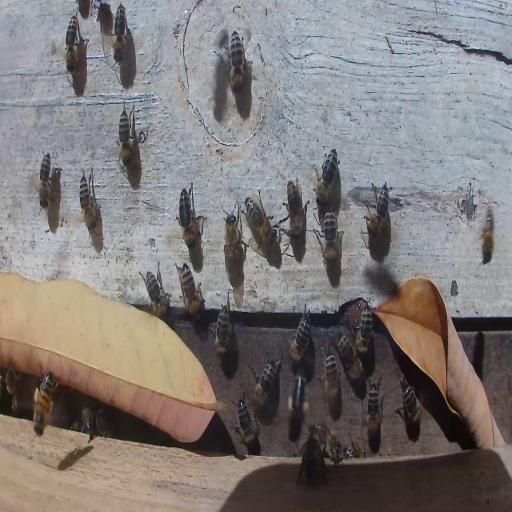nonpollenbee: (243, 193, 279, 250), (176, 183, 206, 247), (249, 352, 281, 409), (140, 262, 170, 315), (176, 262, 204, 318), (285, 176, 308, 243), (78, 166, 100, 236), (313, 148, 339, 206), (365, 180, 391, 236), (288, 304, 312, 364), (236, 399, 260, 453), (398, 377, 422, 429), (117, 104, 135, 173), (365, 374, 384, 438), (319, 211, 342, 263), (310, 423, 342, 460), (339, 337, 364, 384), (323, 352, 341, 416), (209, 300, 231, 352), (228, 31, 246, 94), (356, 299, 374, 360), (302, 436, 325, 477), (113, 3, 127, 65), (224, 207, 238, 266), (38, 150, 52, 209), (80, 406, 105, 438), (65, 13, 77, 76), (481, 207, 494, 264), (4, 366, 20, 396), (344, 438, 364, 458), (316, 345, 325, 379)
pollenbee: (286, 370, 309, 445), (31, 368, 55, 438)
